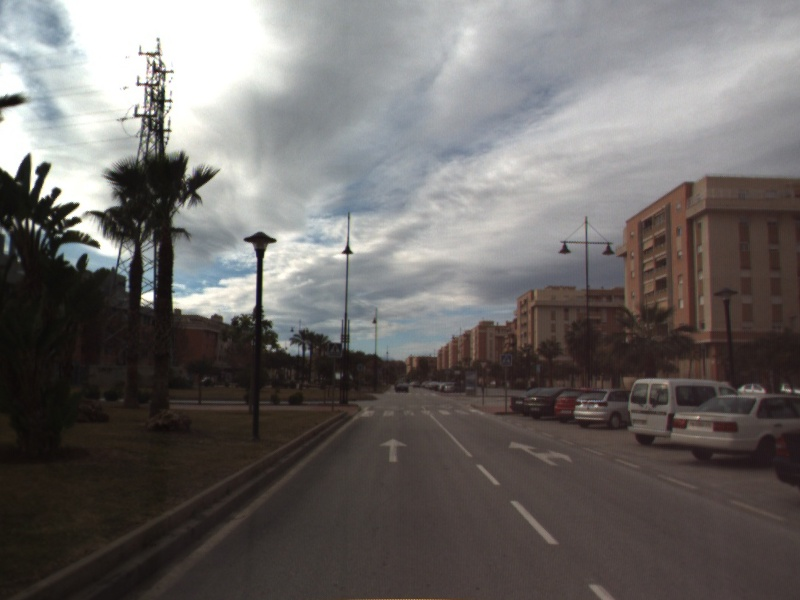STRAIGHT: (378, 436, 409, 464)
STRAIGHT_RIGHT: (507, 439, 574, 467)
